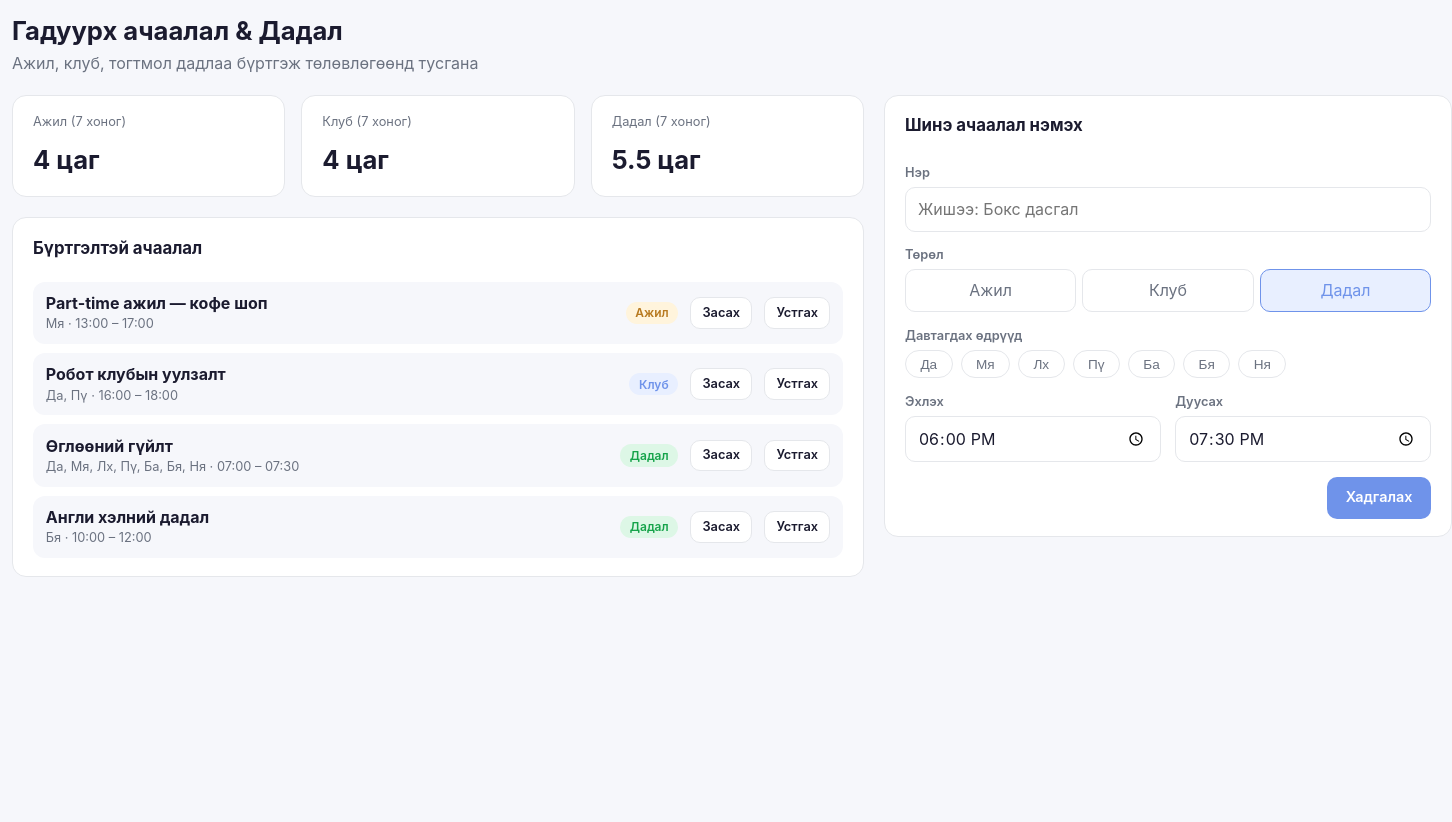
Commitment & Habit CRUD › CREATE: Шинэ дадал нэмнэ
Type "Өглөөний дасгал" into the field with test id "field-title".
click(1168, 210); type("Өглөөний дасгал")  # box [905,187,1431,232]
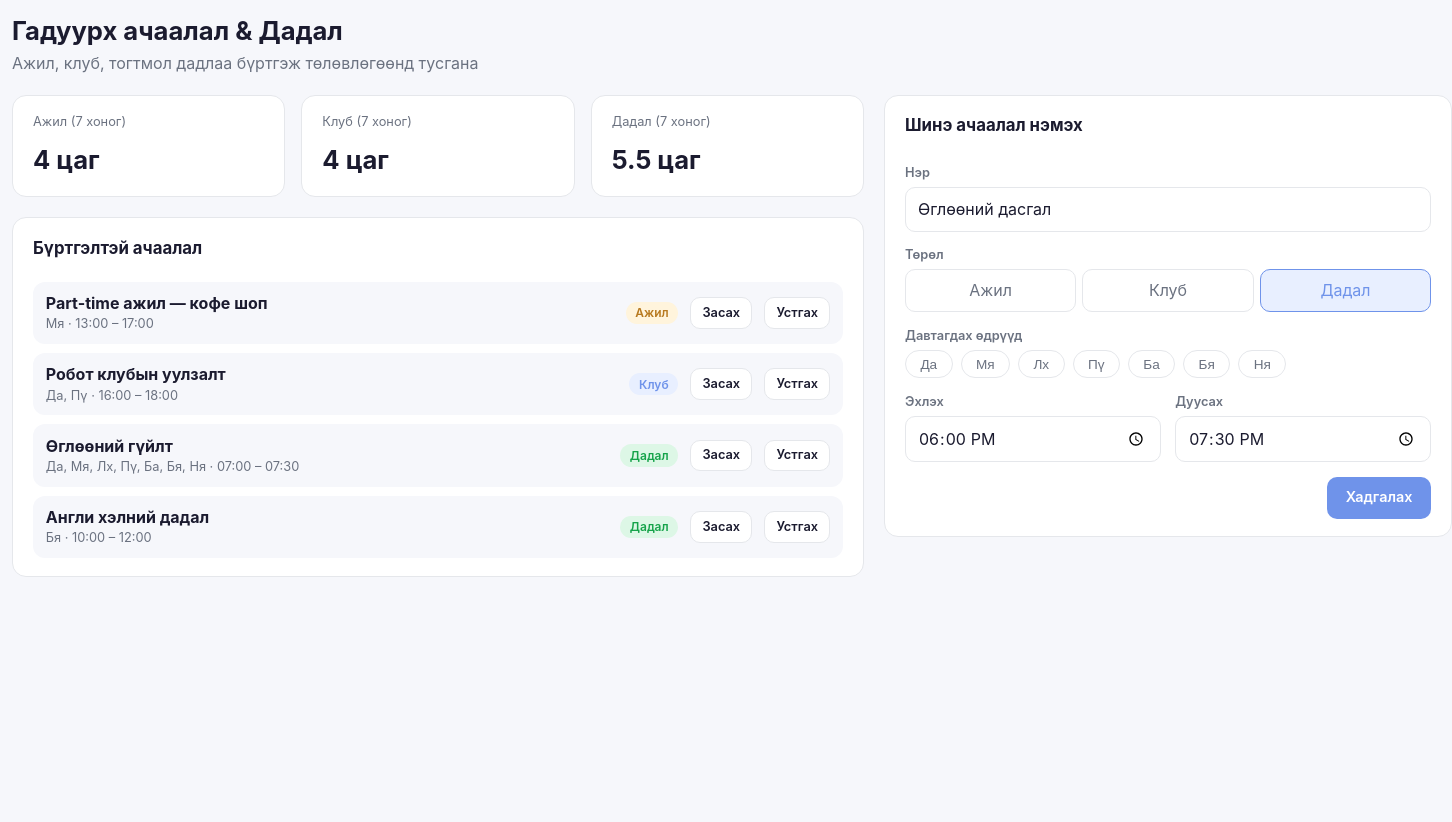
Click the button with test id "day-0".
click(929, 364)  # box [905,350,953,378]
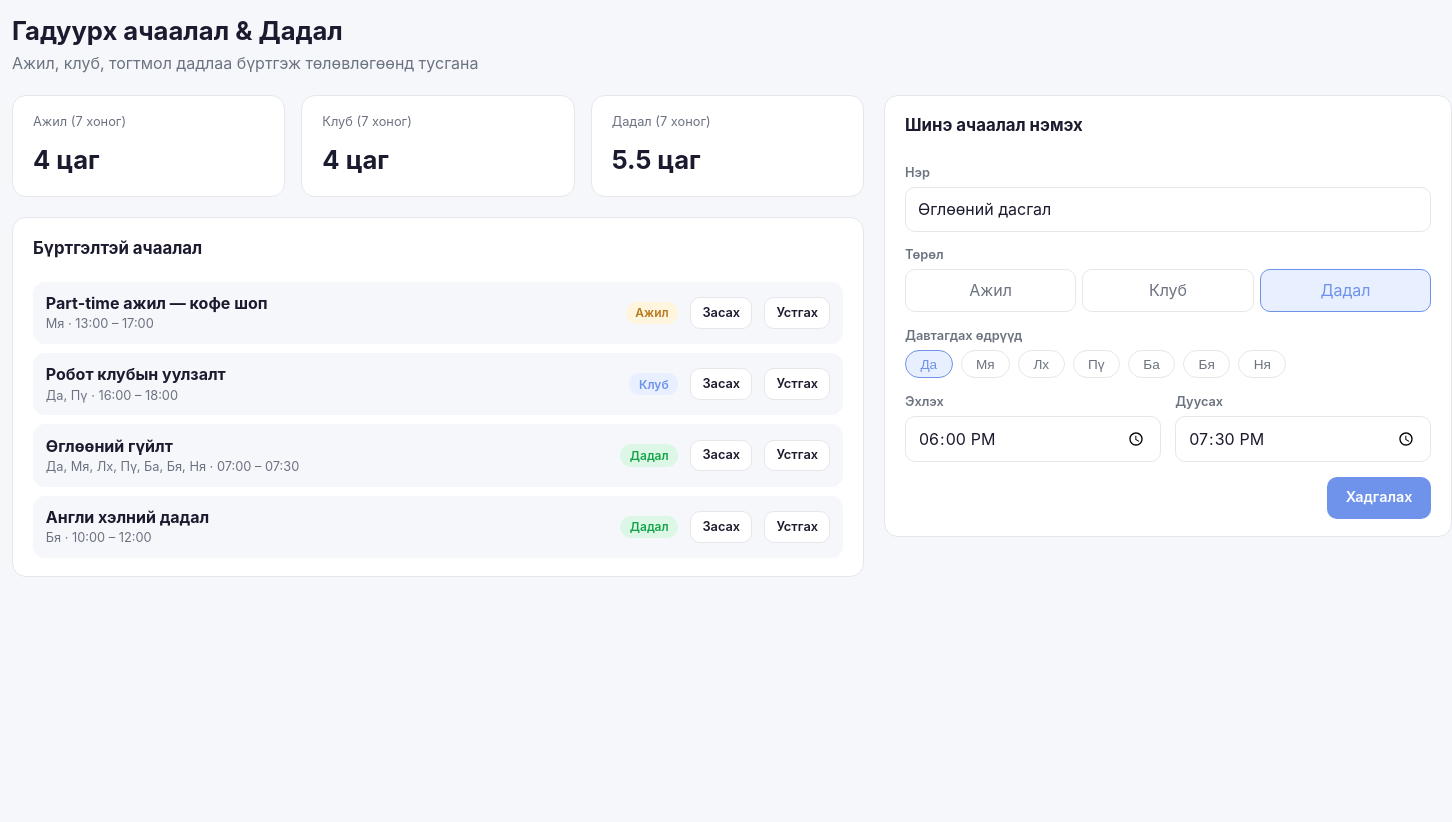
Click the button with test id "submit".
click(1379, 498)  # box [1327,477,1431,519]
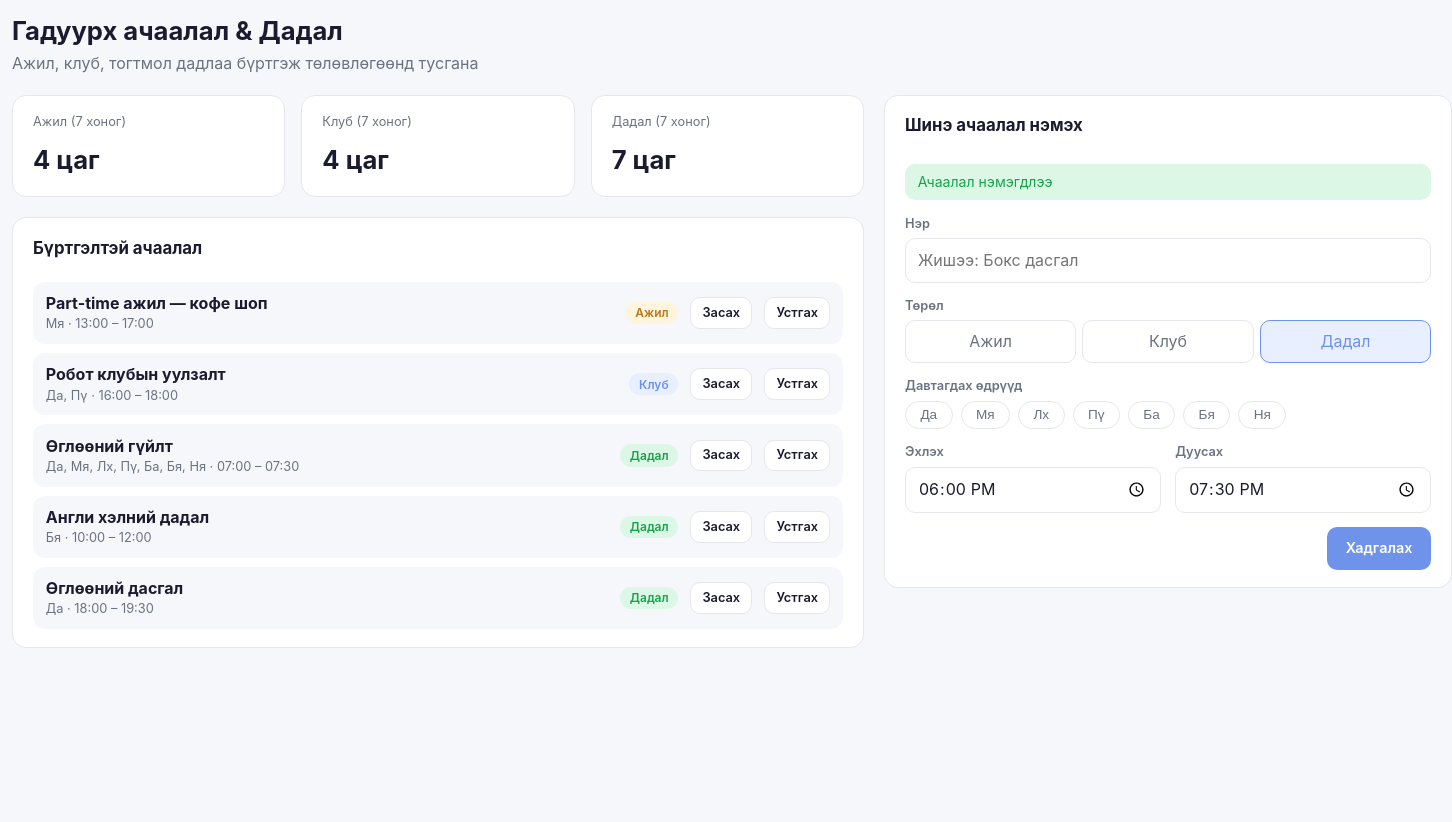
Check: the text "Өглөөний дасгал" is shown, box [46,578,183,598]
Check: the text "Ачаалал нэмэгдлээ" is shown, box [905,164,1431,200]
